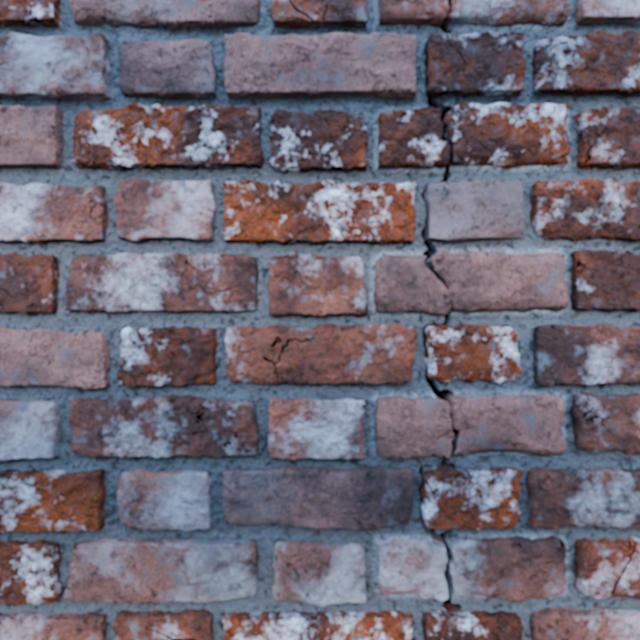broken_brick: (374, 250, 568, 314), (375, 394, 565, 458), (444, 103, 570, 167), (450, 536, 566, 601), (378, 107, 449, 168), (377, 539, 447, 600), (446, 0, 569, 26), (380, 0, 448, 27)
crack: (420, 0, 525, 289), (418, 456, 523, 639), (224, 32, 416, 99), (71, 103, 263, 169), (64, 538, 257, 603), (222, 179, 415, 243), (222, 466, 414, 529), (68, 394, 257, 458), (225, 323, 417, 385), (65, 253, 258, 312), (423, 311, 521, 406), (0, 32, 110, 100), (525, 467, 639, 529), (532, 30, 639, 95), (0, 327, 110, 389), (530, 179, 639, 241), (0, 469, 105, 532), (533, 324, 639, 386), (114, 178, 216, 242), (0, 183, 108, 243), (268, 253, 367, 316), (269, 109, 368, 172), (268, 397, 365, 460), (272, 541, 365, 606), (117, 326, 216, 387), (119, 39, 216, 99), (117, 470, 211, 531), (69, 0, 260, 29), (222, 610, 412, 639), (570, 392, 639, 453), (570, 250, 639, 310), (0, 540, 62, 606), (574, 537, 639, 599), (574, 107, 639, 169), (0, 105, 63, 168), (0, 400, 61, 460), (529, 607, 639, 639), (0, 254, 59, 313), (114, 609, 213, 639), (0, 612, 106, 639), (270, 0, 367, 28), (0, 0, 60, 27), (575, 0, 639, 25), (450, 427, 459, 454)
